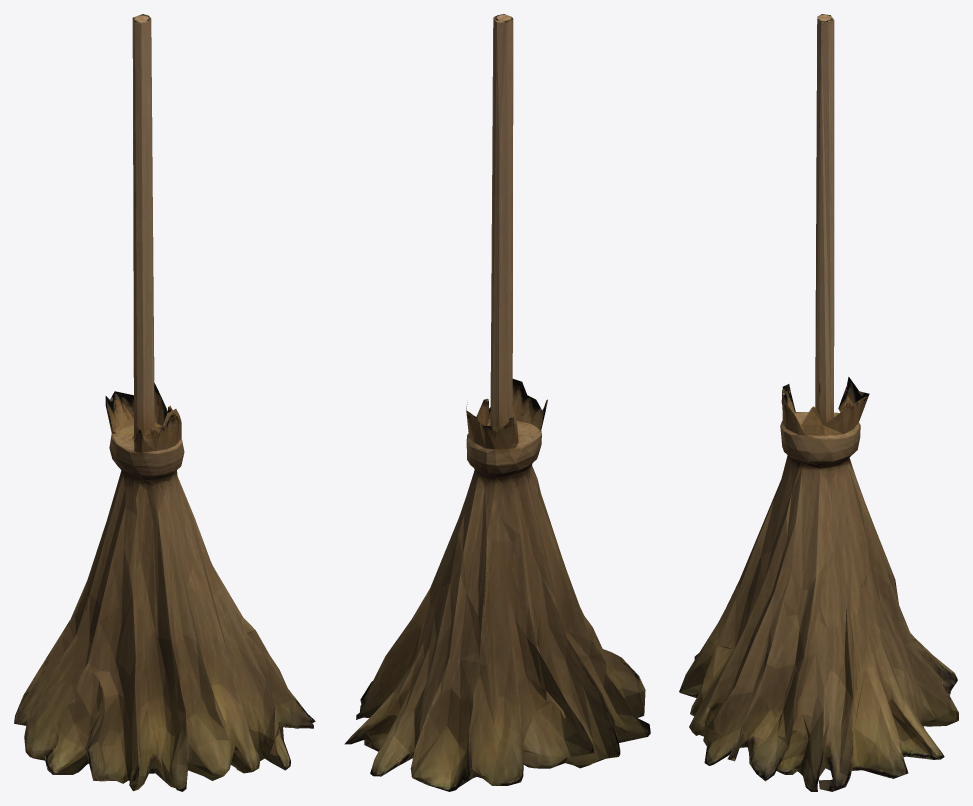
The model's file is broom_witch.glb.
3 renders of one model, left to right at view 1: azimuth 30°, elevation 25°; view 2: azimuth 150°, elevation 25°; view 3: azimuth 270°, elevation 25°, orthographic. The views are drawn at different scales.
Parts seen in each view (by area): view 1: geometry_0; view 2: geometry_0; view 3: geometry_0.
Boxes of the visible parts, x1,y1,x2,y2 form: geometry_0: [14, 14, 315, 791]; geometry_0: [344, 14, 650, 791]; geometry_0: [679, 14, 958, 791].
Bounding box in the file's own units: 0.3853 × 1 × 0.3588.
Materials: 1 (1 with a texture image).
